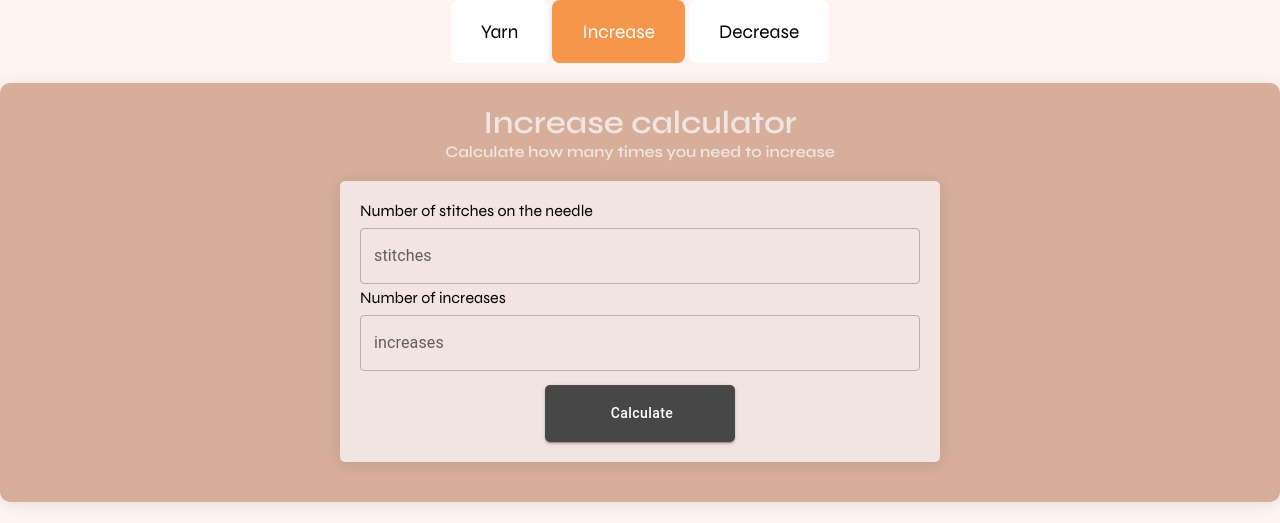
Test: Calculators › See if when Decrease is active you get the correct message
Click the text "Decrease" at (759, 32), box [689,0,829,63]
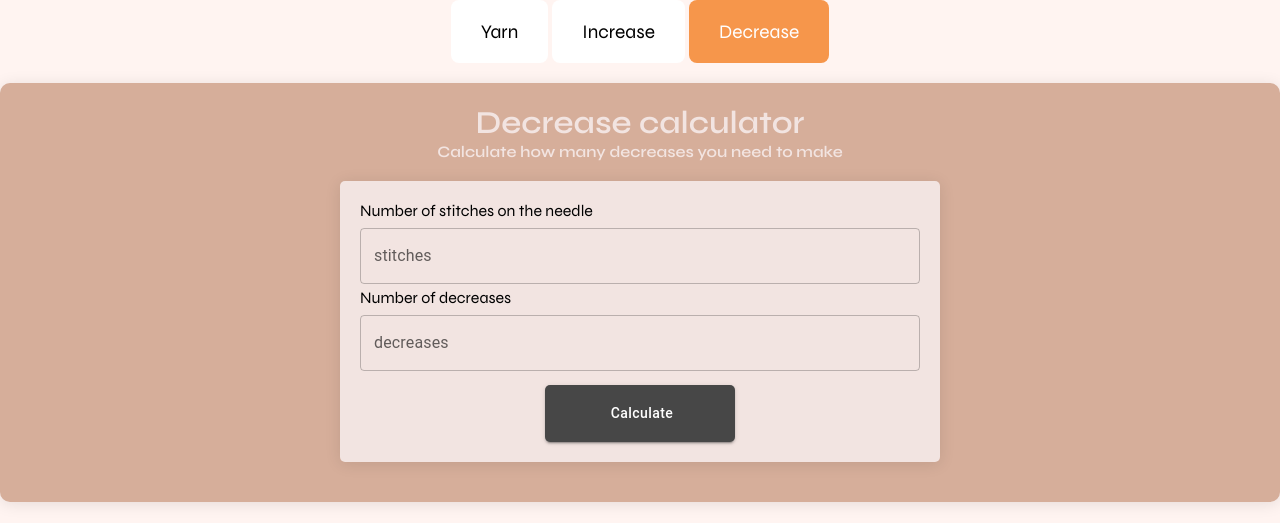
expect the heading "Calculate how many decreases you need to make" is shown: met, box [437,142,843,161]
